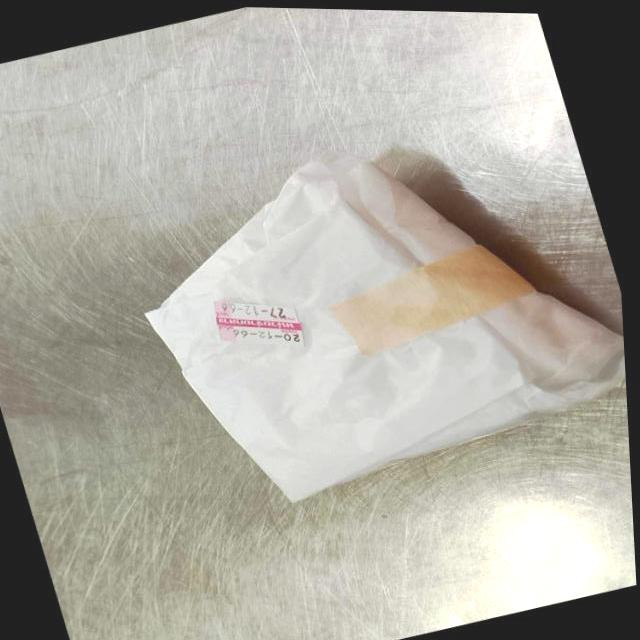General: (142, 152, 625, 504)
Sharps: (327, 243, 537, 358), (211, 298, 306, 348)
